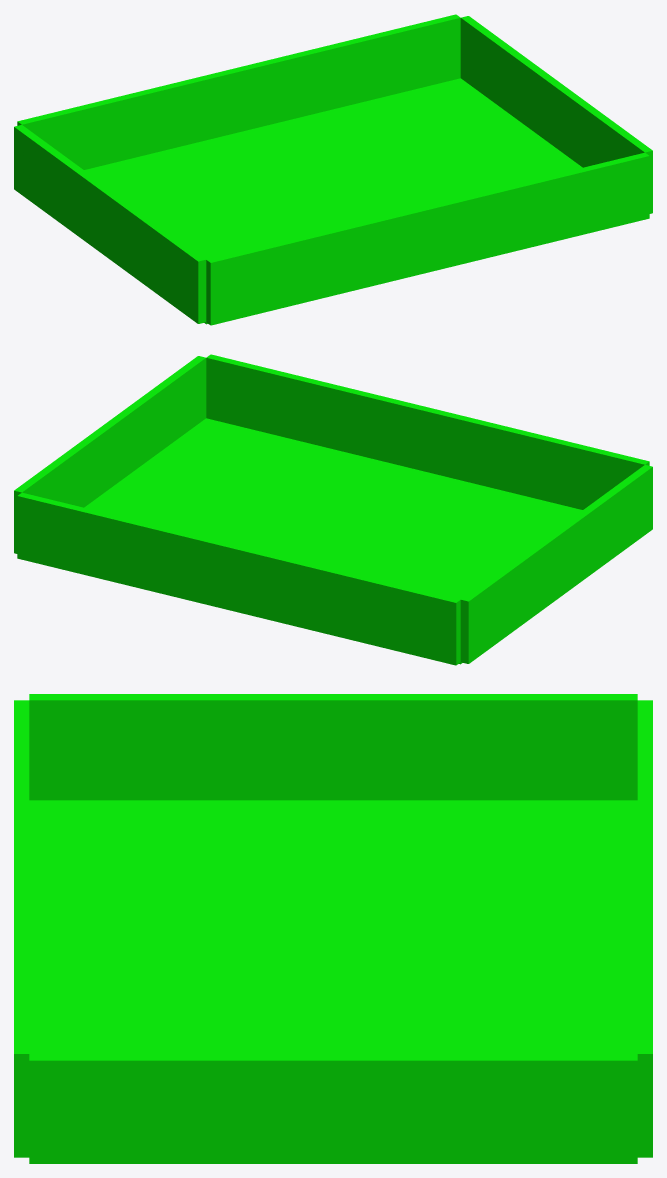
File: atrium.collision.glb
3 views of the same model, one above another, from view 1: azimuth 30°, elevation 25°; view 2: azimuth 150°, elevation 25°; view 3: azimuth 270°, elevation 25° (orthographic). The views are drawn at different scales.
Visible parts, largest first — view 1: floor_collision_proxy, south_wall_collision_proxy, north_wall_collision_proxy, west_wall_collision_proxy, east_wall_collision_proxy; view 2: floor_collision_proxy, north_wall_collision_proxy, south_wall_collision_proxy, west_wall_collision_proxy, east_wall_collision_proxy; view 3: floor_collision_proxy, east_wall_collision_proxy, west_wall_collision_proxy, north_wall_collision_proxy, south_wall_collision_proxy.
Boxes of the visible parts, <box> form: floor_collision_proxy: <box>84,78,582,324</box>; south_wall_collision_proxy: <box>206,152,649,325</box>; north_wall_collision_proxy: <box>17,14,460,169</box>; west_wall_collision_proxy: <box>14,125,206,323</box>; east_wall_collision_proxy: <box>460,16,652,213</box>; floor_collision_proxy: <box>84,418,582,664</box>; north_wall_collision_proxy: <box>17,492,460,665</box>; south_wall_collision_proxy: <box>206,354,649,509</box>; west_wall_collision_proxy: <box>460,465,652,663</box>; east_wall_collision_proxy: <box>14,356,206,553</box>; floor_collision_proxy: <box>29,800,637,1053</box>; east_wall_collision_proxy: <box>29,1054,637,1163</box>; west_wall_collision_proxy: <box>29,694,637,800</box>; north_wall_collision_proxy: <box>637,700,652,1157</box>; south_wall_collision_proxy: <box>14,700,29,1157</box>.
Bounding box in the file's own units: 22.8 × 3.1 × 16.8.
